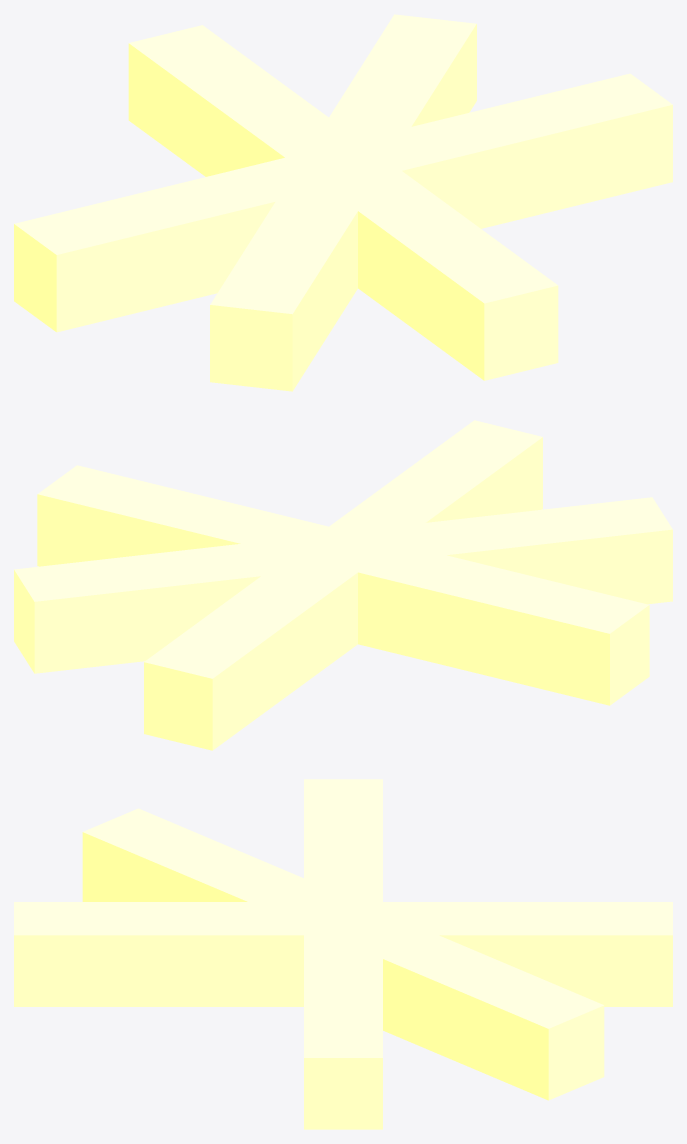
The model's file is gold_glint.glb.
3 renders of one model, top to bottom at view 1: azimuth 30°, elevation 25°; view 2: azimuth 150°, elevation 25°; view 3: azimuth 270°, elevation 25°, orthographic. The views are drawn at different scales.
Parts seen in each view (by area): view 1: glint, glint.001, glint.002; view 2: glint, glint.002, glint.001; view 3: glint.001, glint.002, glint.
Boxes of the visible parts, x1=… form: glint: x1=14, y1=73, x2=672, y2=332; glint.001: x1=128, y1=25, x2=558, y2=380; glint.002: x1=210, y1=14, x2=476, y2=391; glint: x1=37, y1=465, x2=649, y2=705; glint.002: x1=14, y1=497, x2=672, y2=673; glint.001: x1=144, y1=420, x2=542, y2=750; glint.001: x1=14, y1=902, x2=672, y2=1006; glint.002: x1=82, y1=808, x2=604, y2=1100; glint: x1=304, y1=779, x2=382, y2=1129.
Size of the model in its own units: 0.05 by 0.006 by 0.05.
